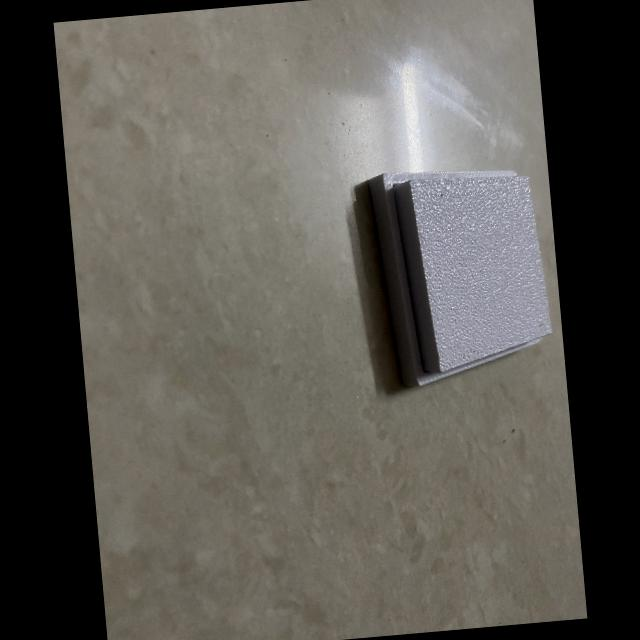RASPBERY PI CAM ENCLOSURE: (354, 159, 556, 389)
